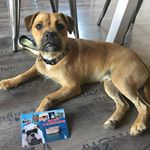puppy: (22, 12, 90, 106)
